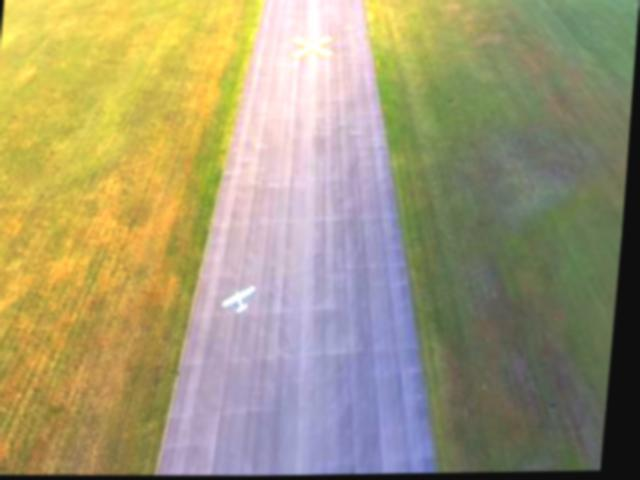uav: (225, 285, 262, 315)
